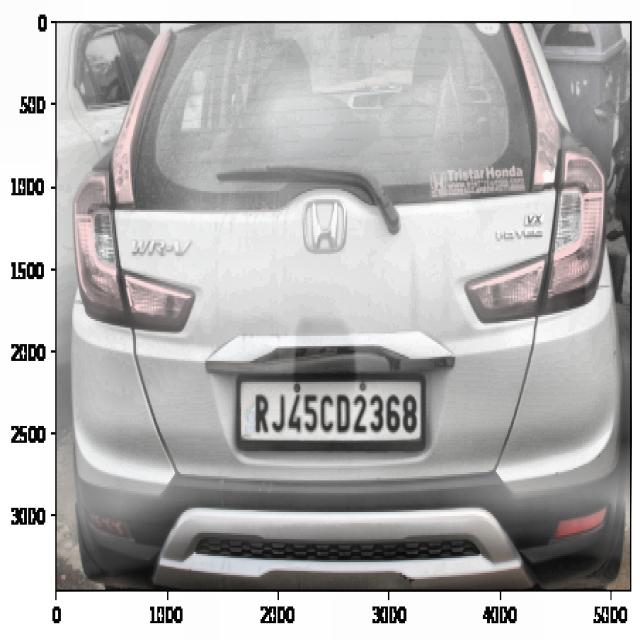license_plate: (246, 378, 422, 449)
